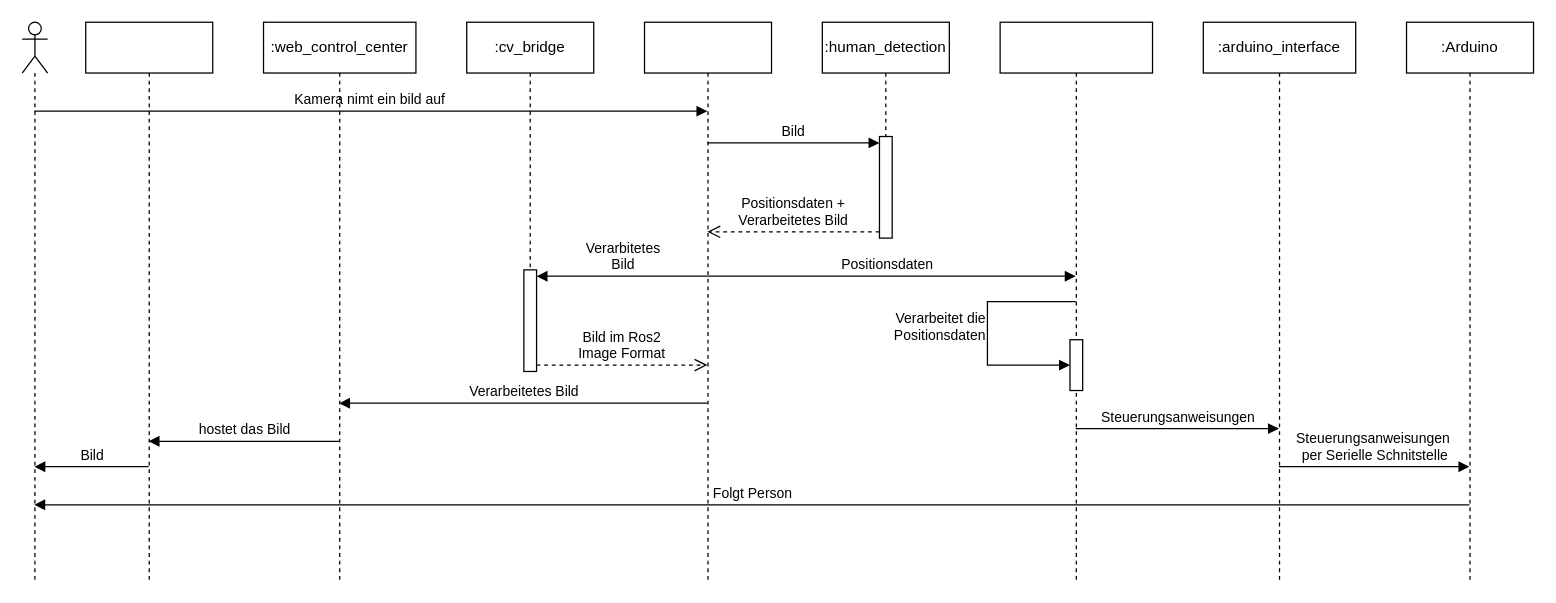
The diagram is 1556 pixels wide and 603 high, and some of its shapes have lost their labels. The shapes that lost their labels are listed below. From the top down, each one's box as (x1, y1, x2, y2) in pixels, then its label:
(84, 21, 213, 581): :Follow-me control center
(643, 21, 772, 581): :camera_opencv
(999, 21, 1153, 581): :movement_control
